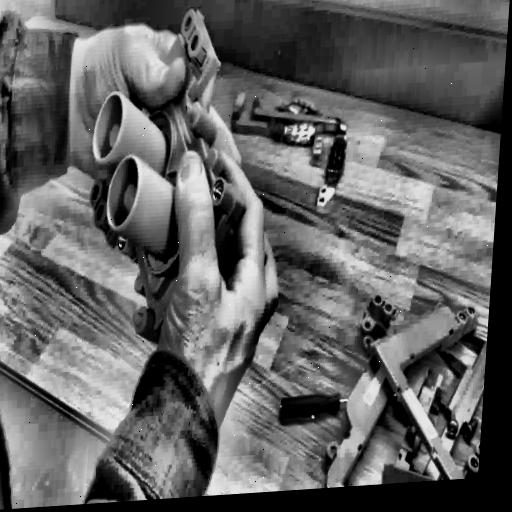busbar: (223, 66, 356, 216)
connector: (72, 8, 275, 362)
